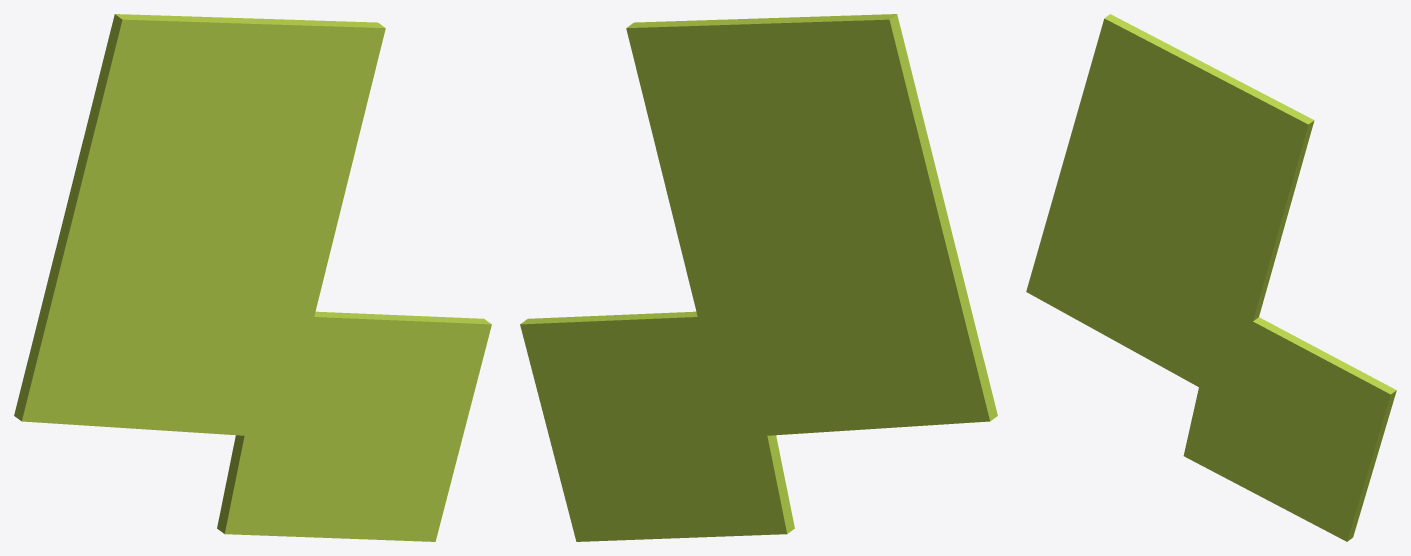
3 renders of one model, left to right at view 1: azimuth 30°, elevation 25°; view 2: azimuth 150°, elevation 25°; view 3: azimuth 330°, elevation 25°, orthographic. The views are drawn at different scales.
Parts seen in each view (by area): view 1: osm-way27917482-F3; view 2: osm-way27917482-F3; view 3: osm-way27917482-F3.
Part boxes in pixels (x1,y1,x2,y2): osm-way27917482-F3: [14, 14, 491, 541]; osm-way27917482-F3: [520, 14, 997, 541]; osm-way27917482-F3: [1026, 14, 1396, 541].
Size of the model in its own units: 5.26 by 6.4 by 0.15.
